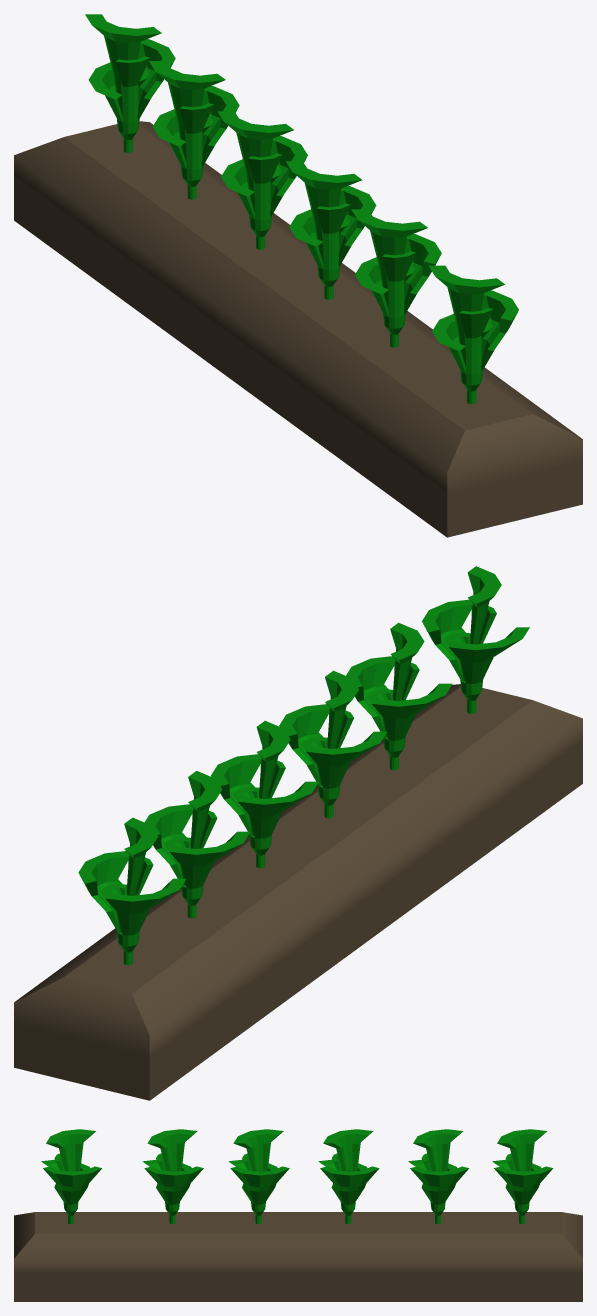
File: garden_sapling2.fbx
3 views of the same model, one above another, from view 1: azimuth 30°, elevation 25°; view 2: azimuth 150°, elevation 25°; view 3: azimuth 270°, elevation 25° (orthographic). The views are drawn at different scales.
Visible parts, largest first — view 1: pCube1, pCylinder3, pCylinder2, pCylinder6, pCylinder7, pCylinder5, pCylinder8; view 2: pCube1, pCylinder3, pCylinder8, pCylinder6, pCylinder5, pCylinder2, pCylinder7; view 3: pCube1, pCylinder6, pCylinder5, pCylinder2, pCylinder7, pCylinder8, pCylinder3.
Part boxes in pixels (<box>): pCube1: <box>14,121,582,537</box>; pCylinder3: <box>428,265,518,404</box>; pCylinder2: <box>351,209,441,347</box>; pCylinder6: <box>217,111,307,249</box>; pCylinder7: <box>149,61,239,199</box>; pCylinder5: <box>286,161,376,299</box>; pCylinder8: <box>85,14,175,152</box>; pCube1: <box>14,684,582,1100</box>; pCylinder3: <box>422,566,529,713</box>; pCylinder8: <box>78,817,186,965</box>; pCylinder6: <box>211,720,318,868</box>; pCylinder5: <box>279,670,386,818</box>; pCylinder2: <box>346,622,452,770</box>; pCylinder7: <box>144,771,250,918</box>; pCube1: <box>14,1212,582,1301</box>; pCylinder6: <box>318,1129,379,1224</box>; pCylinder5: <box>229,1129,289,1224</box>; pCylinder2: <box>142,1129,203,1224</box>; pCylinder7: <box>408,1129,469,1223</box>; pCylinder8: <box>492,1129,553,1223</box>; pCylinder3: <box>41,1129,101,1223</box>.
Bounding box in the file's own units: 1.18 × 1.79 × 6.51.
